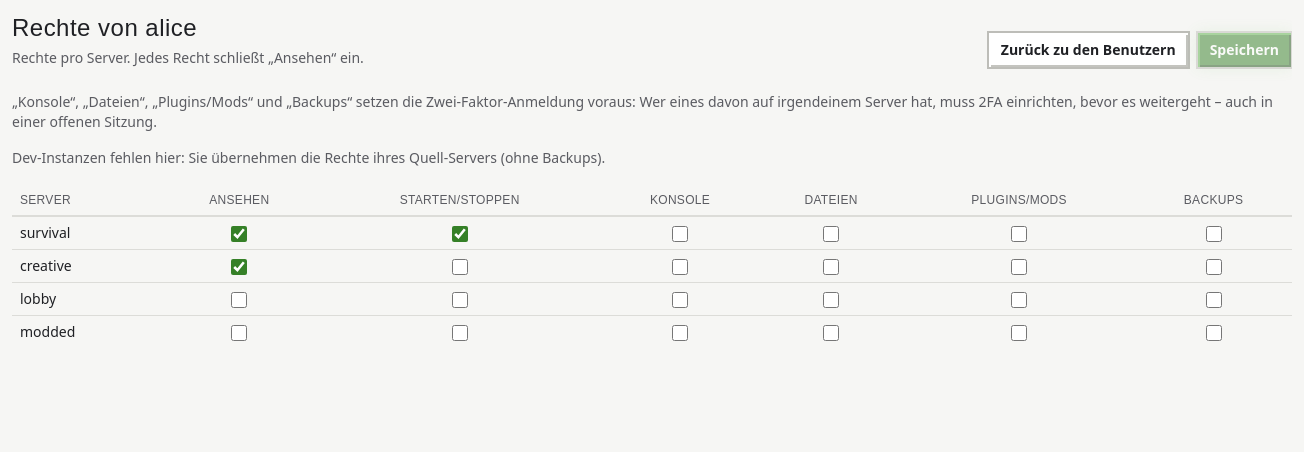
Test: UserPermissionsPage › warns before granting file access
The width and height of the screenshot is (1304, 452).
expect the heading "Rechte von alice" is shown: met, box top-left (12, 14), bottom-right (197, 41)
expect the text "erlaubt Code-Ausführung" is not shown: met
Click the checkbox named "survival: Dateien": (831, 234) top-left (823, 226), bottom-right (839, 242)
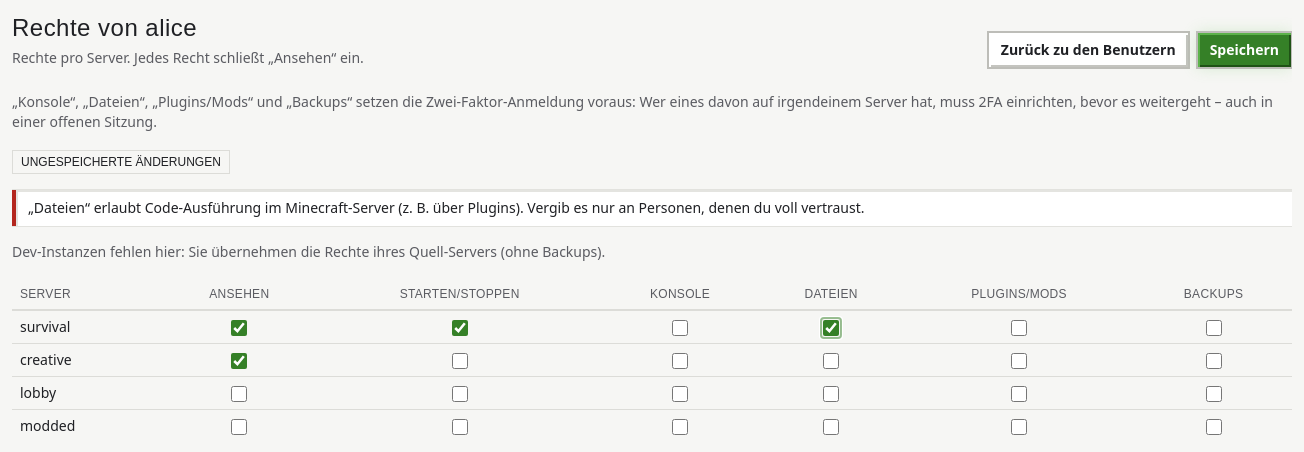
expect the text "„Dateien“ erlaubt Code-Ausführung im Minecraft-Server" is shown: met, box top-left (28, 198), bottom-right (864, 217)
